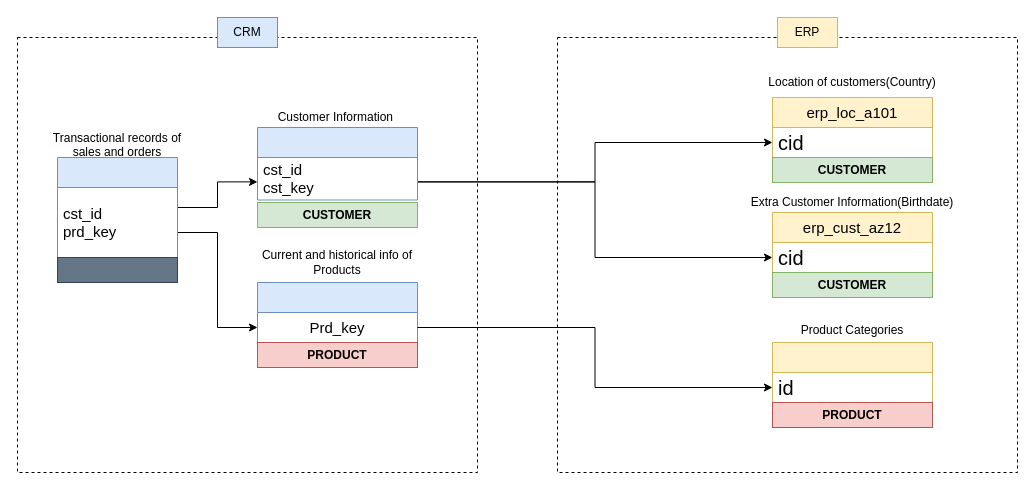
The diagram is 1035 pixels wide and 490 high, and some of its shapes have lost their labels. Here are the shapes that lost their labels. From the top down, the box of each, then its label:
(256, 126, 418, 200): crm_cust_info
(56, 156, 178, 258): crm_sales_details
(56, 256, 178, 282): SALES
(256, 282, 418, 342): crm_prd_info
(772, 342, 932, 402): erp_px_cat_g1v2
